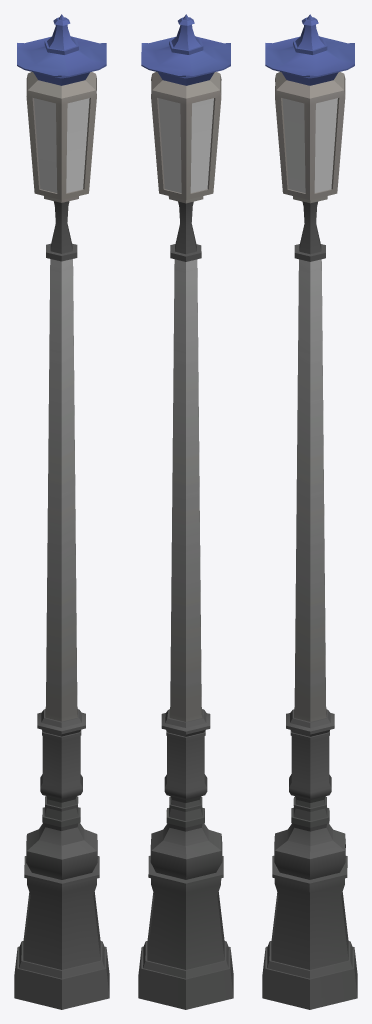
Rendered from Lamp.FBX.
3 views of the same model, side by side, from view 1: azimuth 90°, elevation 25°; view 2: azimuth 210°, elevation 25°; view 3: azimuth 270°, elevation 25° (orthographic).
Visible parts, largest first — view 1: Lamp; view 2: Lamp; view 3: Lamp.
Part boxes in pixels (<box>): Lamp: <box>14,14,109,1009</box>; Lamp: <box>138,14,233,1009</box>; Lamp: <box>262,14,357,1009</box>.
Bounding box in the file's own units: 18.45 × 180 × 16.
